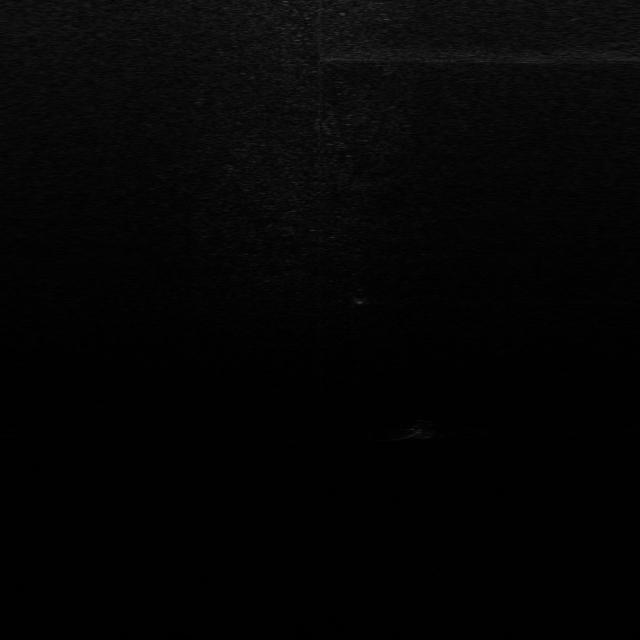ball: (407, 421, 438, 439)
circle cage: (346, 286, 374, 304)
